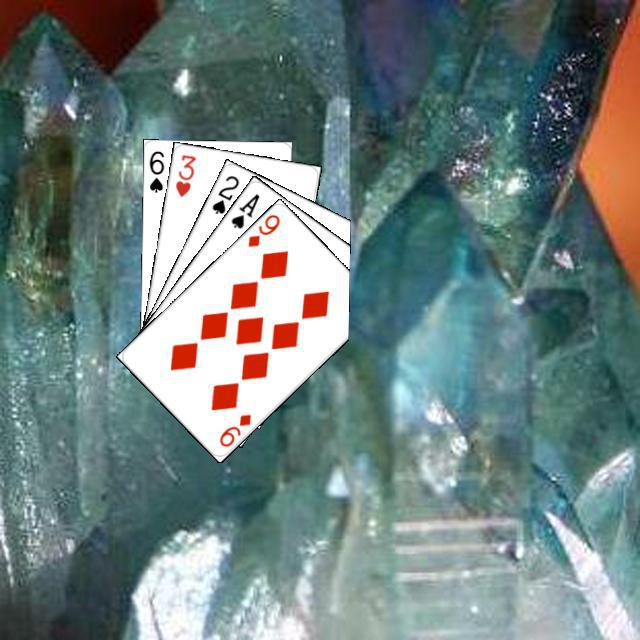2s: (207, 170, 241, 216)
3h: (171, 149, 197, 199)
6s: (145, 146, 166, 194)
9d: (243, 209, 282, 249), (214, 409, 253, 449)
As: (226, 189, 261, 231)
